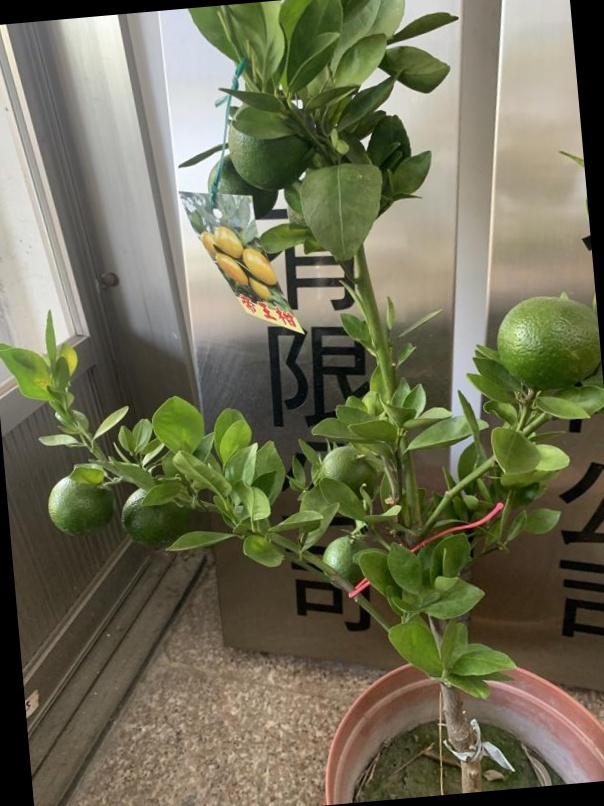Tangerine: (499, 289, 600, 387), (115, 488, 188, 549), (43, 469, 107, 535)
